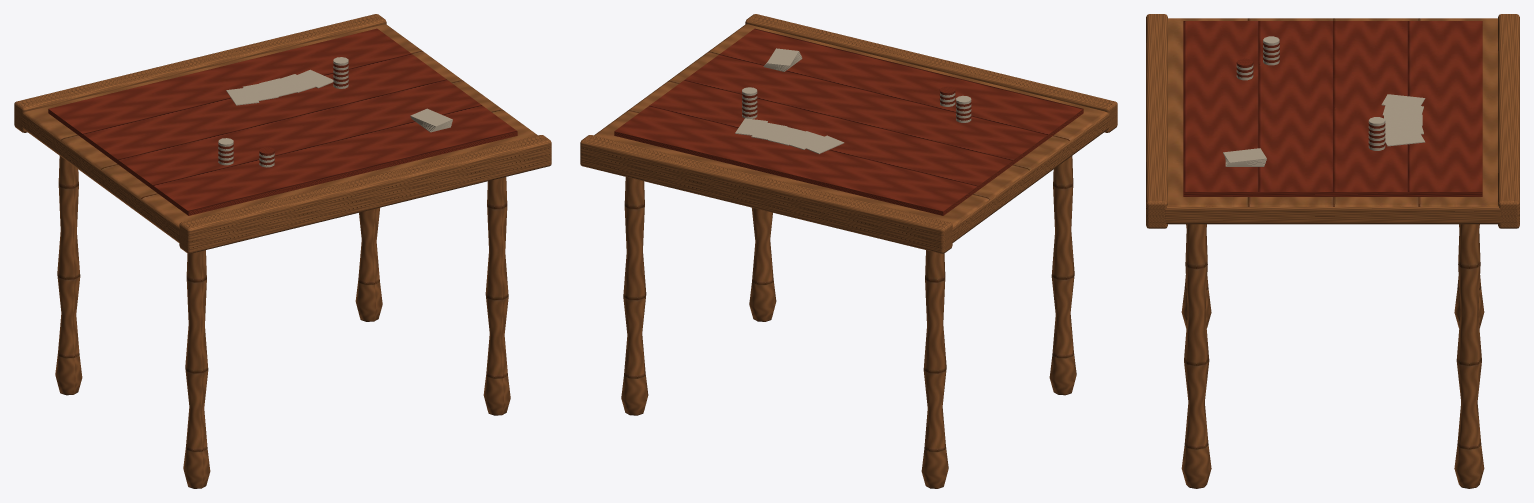
The model's file is wild-west-frontier-town-saloon-card-table-7bb8742e__30118.glb.
The picture shows the model from 3 angles, left to right: view 1: azimuth 30°, elevation 25°; view 2: azimuth 150°, elevation 25°; view 3: azimuth 270°, elevation 25°; orthographic projection. The views are drawn at different scales.
Visible parts, largest first — view 1: saloon-card-table; view 2: saloon-card-table; view 3: saloon-card-table.
Boxes of the visible parts, x1,y1,x2,y2 form: saloon-card-table: [14, 14, 551, 488]; saloon-card-table: [580, 14, 1117, 488]; saloon-card-table: [1146, 14, 1519, 488].
Bounding box in the file's own units: 1.02 × 0.82 × 0.85.
3 materials, 3 textured.
